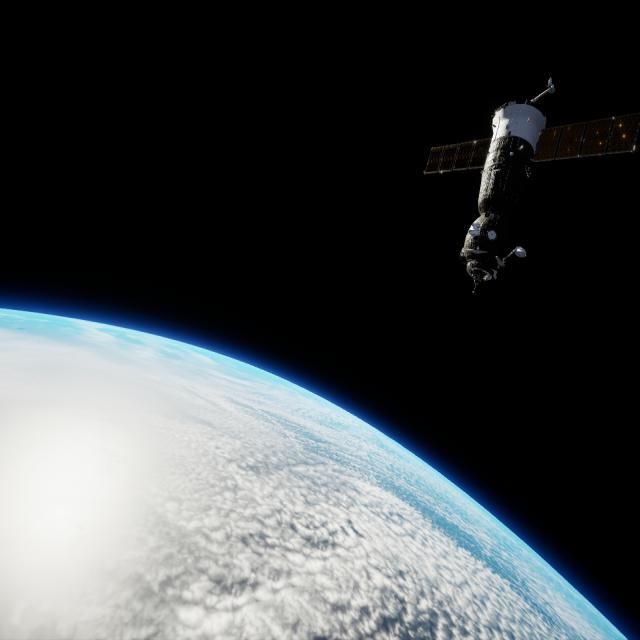Satellites revolving around earth: (1, 305, 629, 638), (422, 74, 638, 295)
